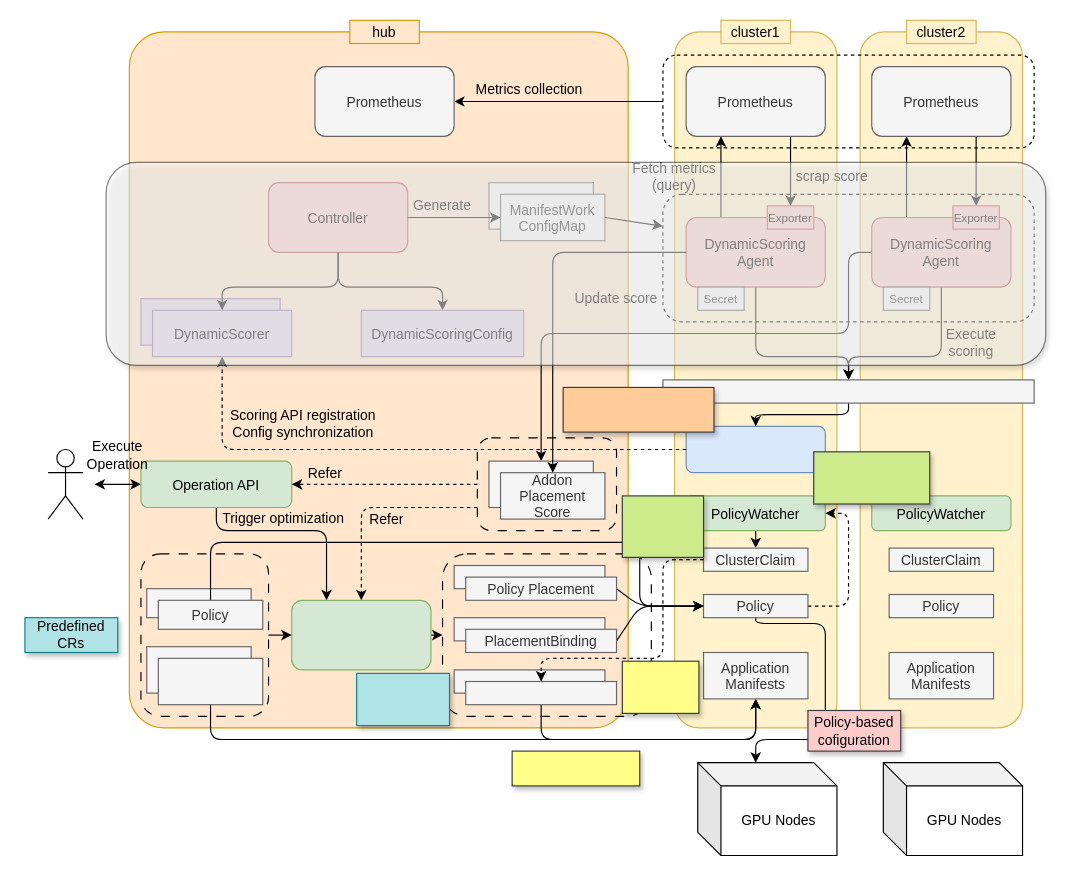
Some shapes in this 1073 by 876 pixel diagram are drawn without their labels. Each missing label, with the centre of its shape:
App Placement: the point at 541,692
Clusterwise Access: the point at 848,391
Deploy application: the point at 576,769
Dynamic Scoring Framework: the point at 576,265
Generate Optimized CRs: the point at 403,701
ManifestWork ReplicaSet: the point at 210,681
Operator: the point at 65,483
Optimization Module: the point at 361,634
Policy compliance condition: the point at 661,688
Power & Performance Scoring: the point at 639,411
Scoring API (Internal): the point at 755,449
Update compliance claim: the point at 663,528
Watch policy compliant: the point at 872,479
